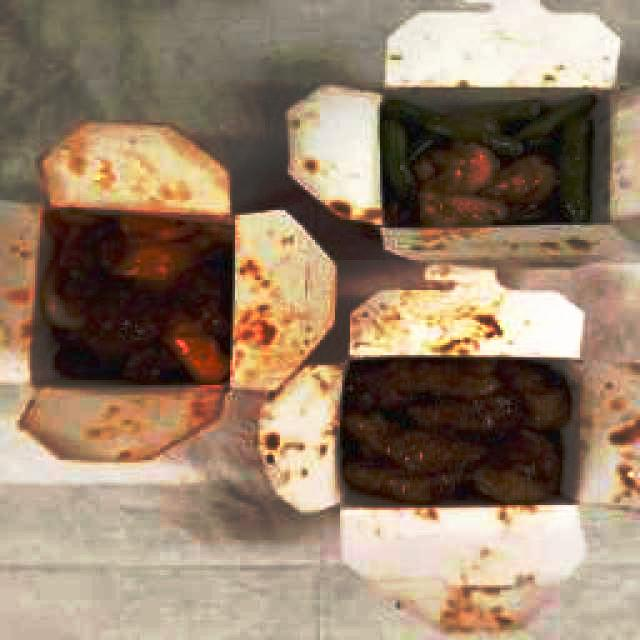Beijing Beef: (340, 355, 573, 506), (38, 207, 234, 386), (380, 92, 599, 227)
